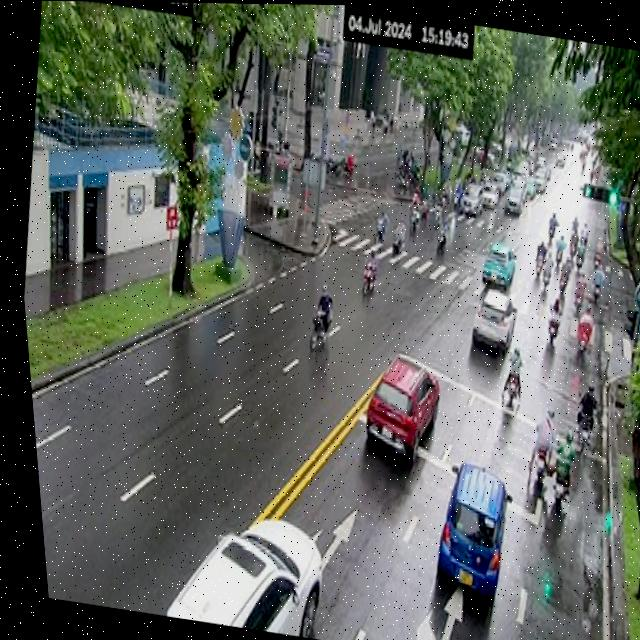Green: (576, 177, 620, 208)
